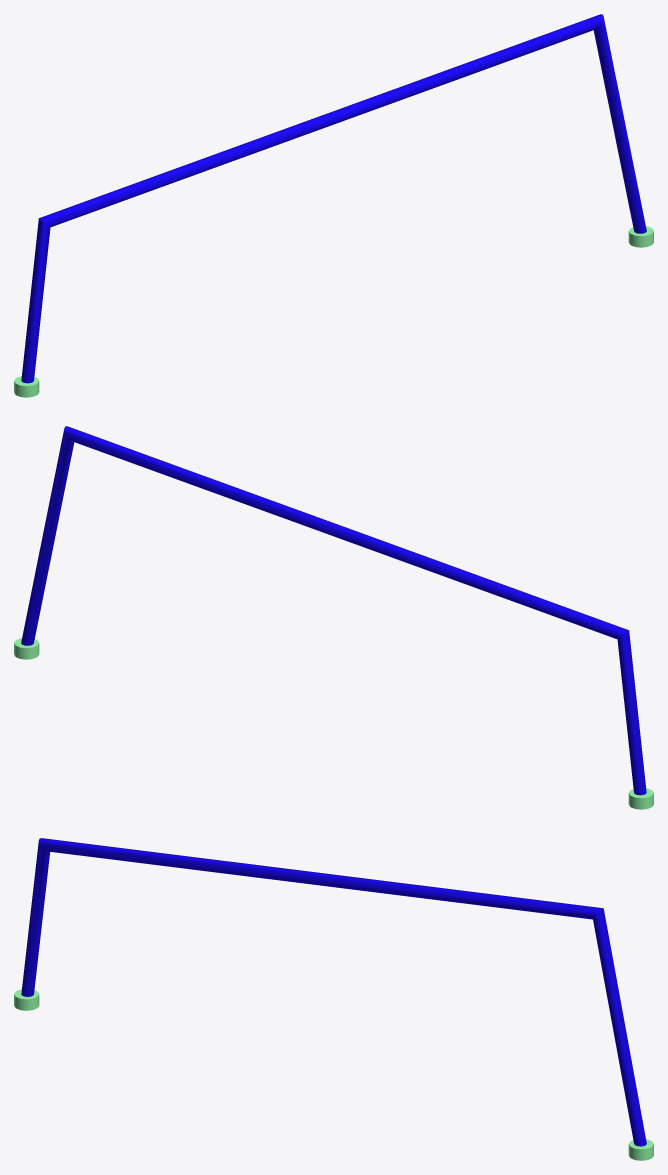
3 views of the same model, one above another, from view 1: azimuth 30°, elevation 25°; view 2: azimuth 150°, elevation 25°; view 3: azimuth 330°, elevation 25° (orthographic).
Visible parts, largest first — view 1: Line008; view 2: Line008; view 3: Line008.
Boxes of the visible parts, x1,y1,x2,y2 form: Line008: [14, 14, 653, 397]; Line008: [14, 426, 653, 809]; Line008: [14, 838, 653, 1160].
Size of the model in its own units: 291 by 104 by 10.
